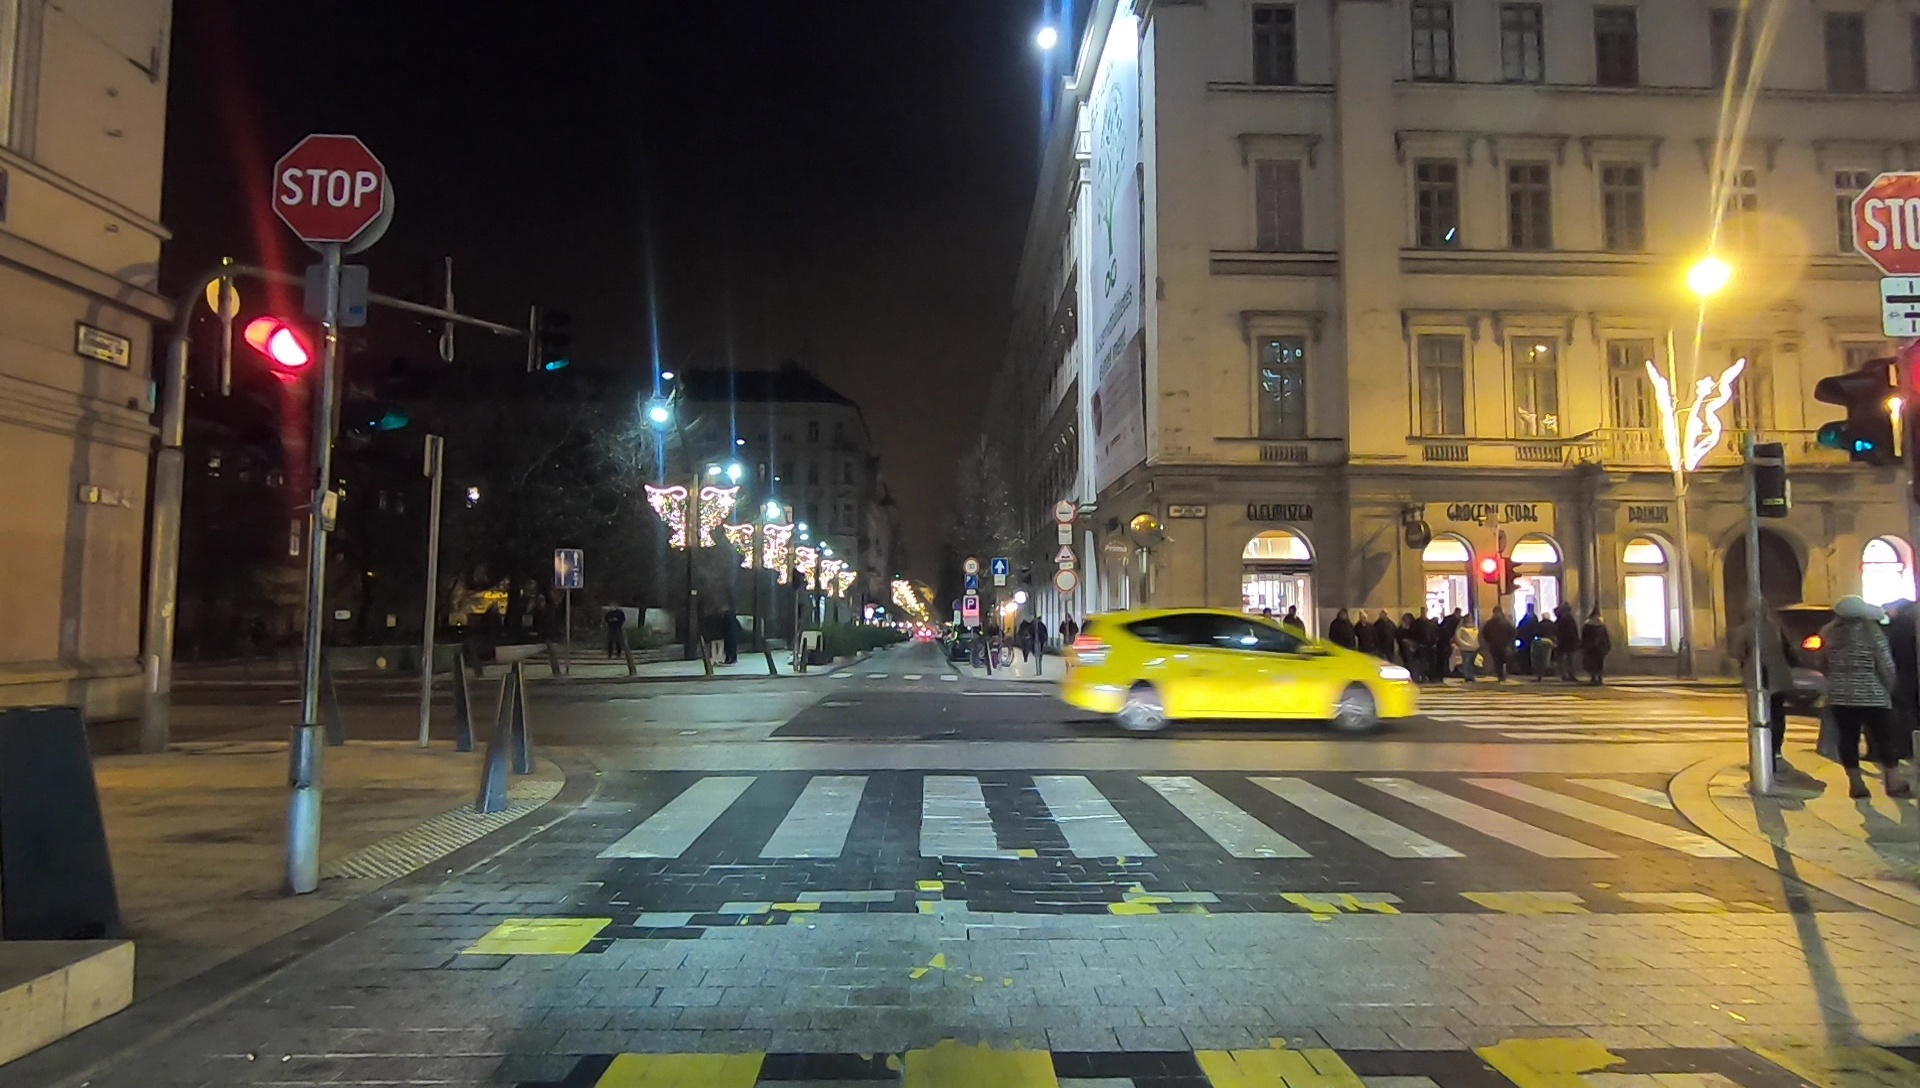person: (1825, 597, 1910, 795), (1745, 591, 1799, 765), (1488, 604, 1514, 678), (1558, 610, 1582, 676), (1586, 608, 1608, 676), (1415, 608, 1436, 676), (1458, 619, 1480, 680), (1536, 611, 1556, 671), (1375, 610, 1395, 671), (606, 610, 626, 660), (1336, 608, 1352, 669), (1352, 613, 1369, 667)
